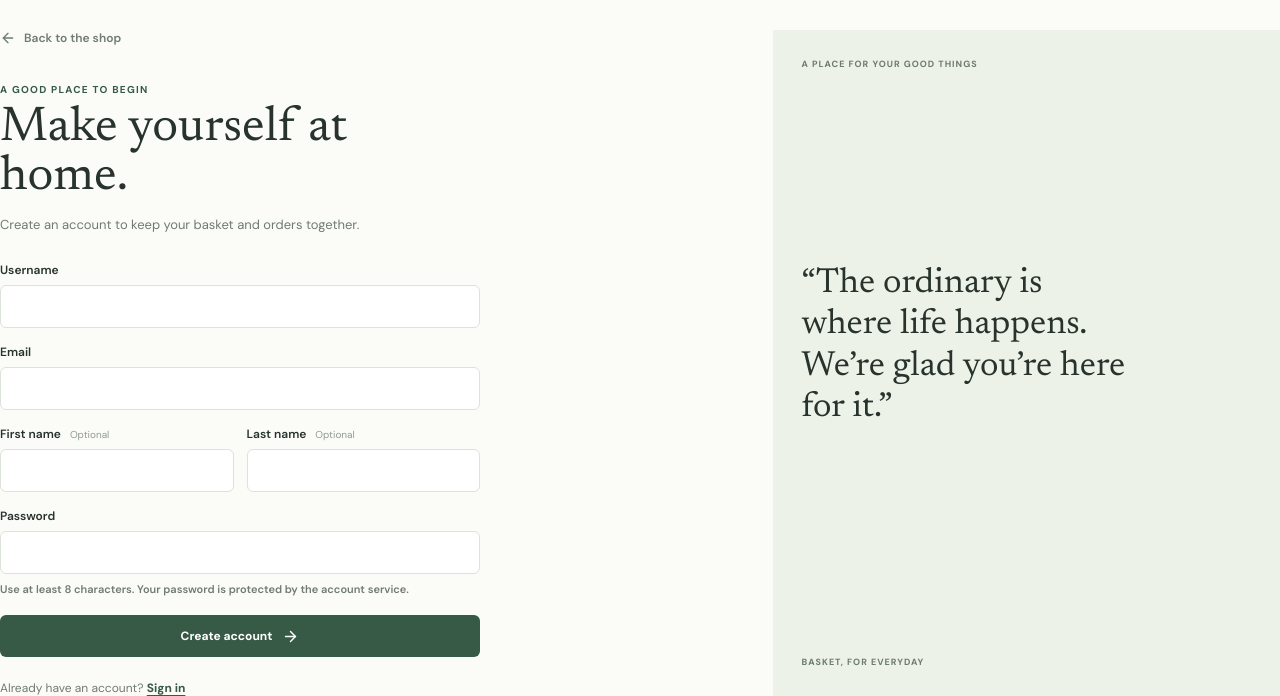
Scenario: AuthPage › shows field-level registration errors from the backend
Type "casey" into the field labelled "Username" at (240, 307), box [0,285,480,328]
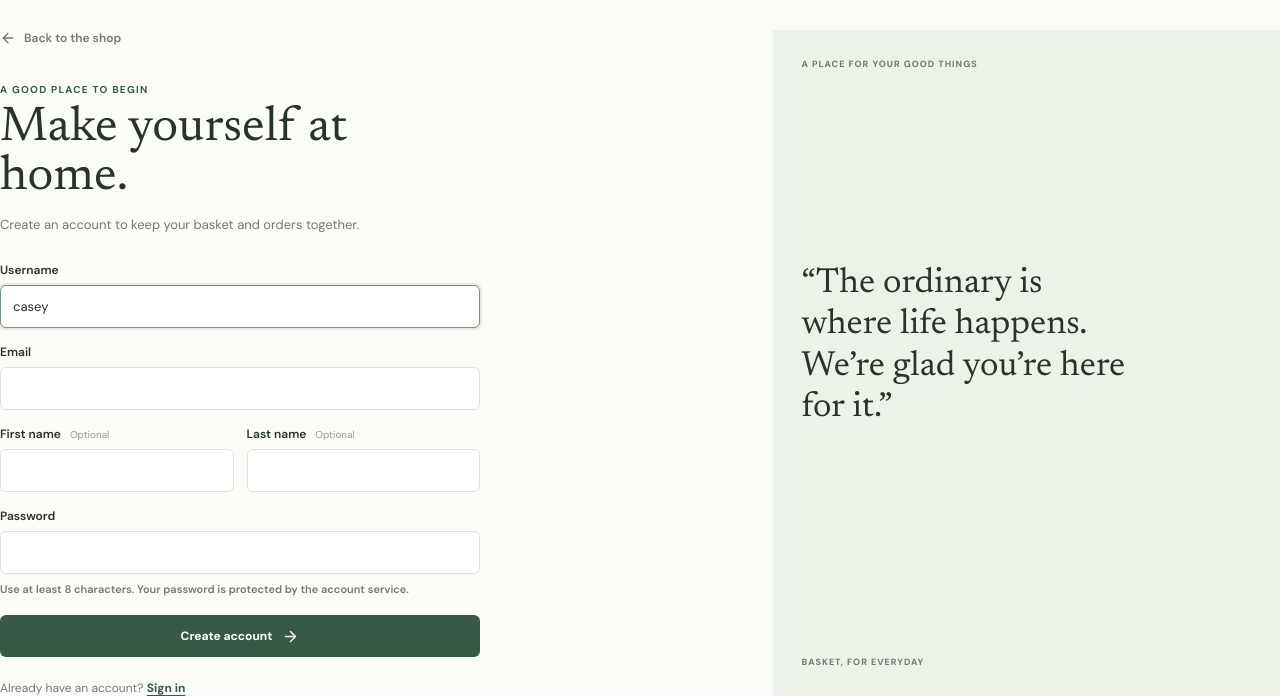
Type "casey@example.com" into the field labelled "Email" at (240, 389), box [0,367,480,410]
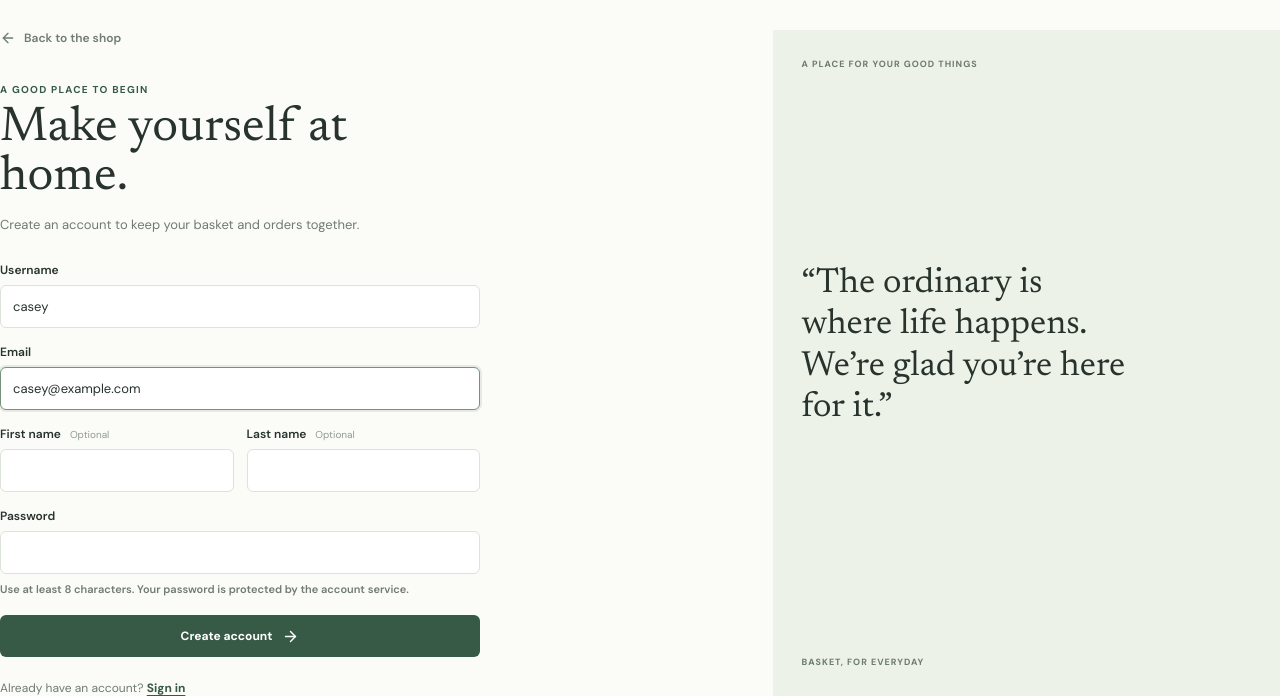
Type "a-secure-password" into the password field labelled "Password" at (240, 553), box [0,531,480,574]
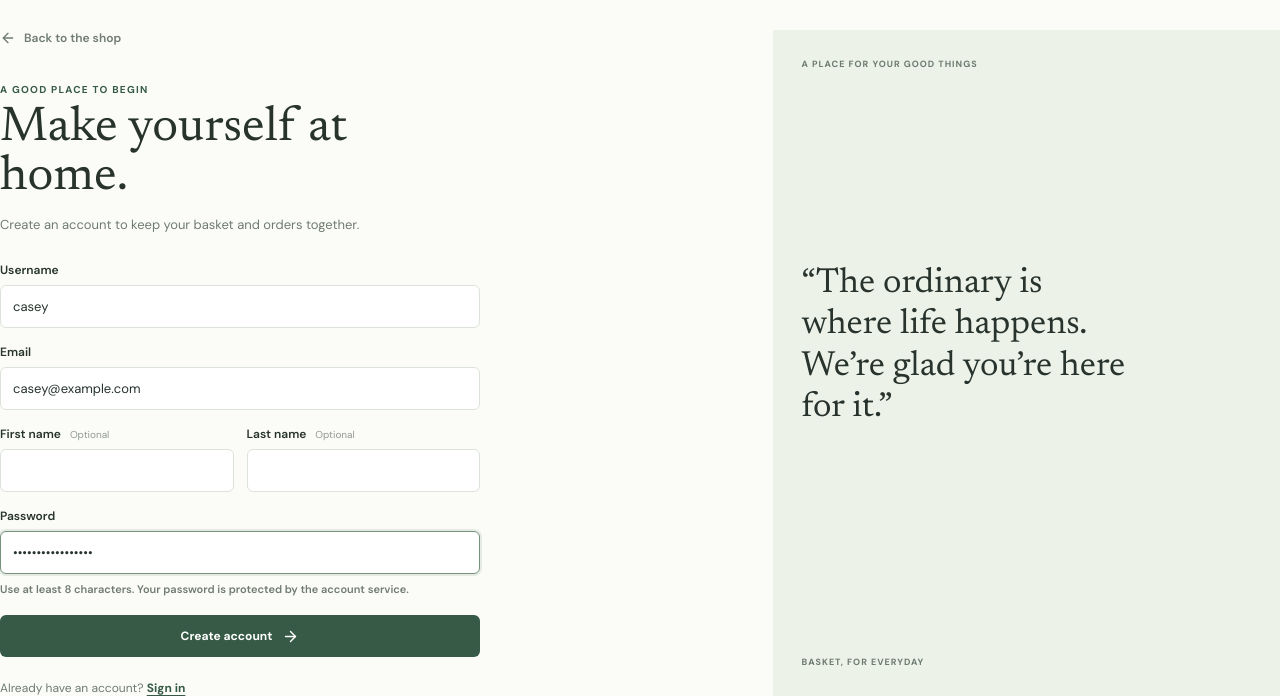
Click the button "Create account" at (240, 636), box [0,615,480,657]
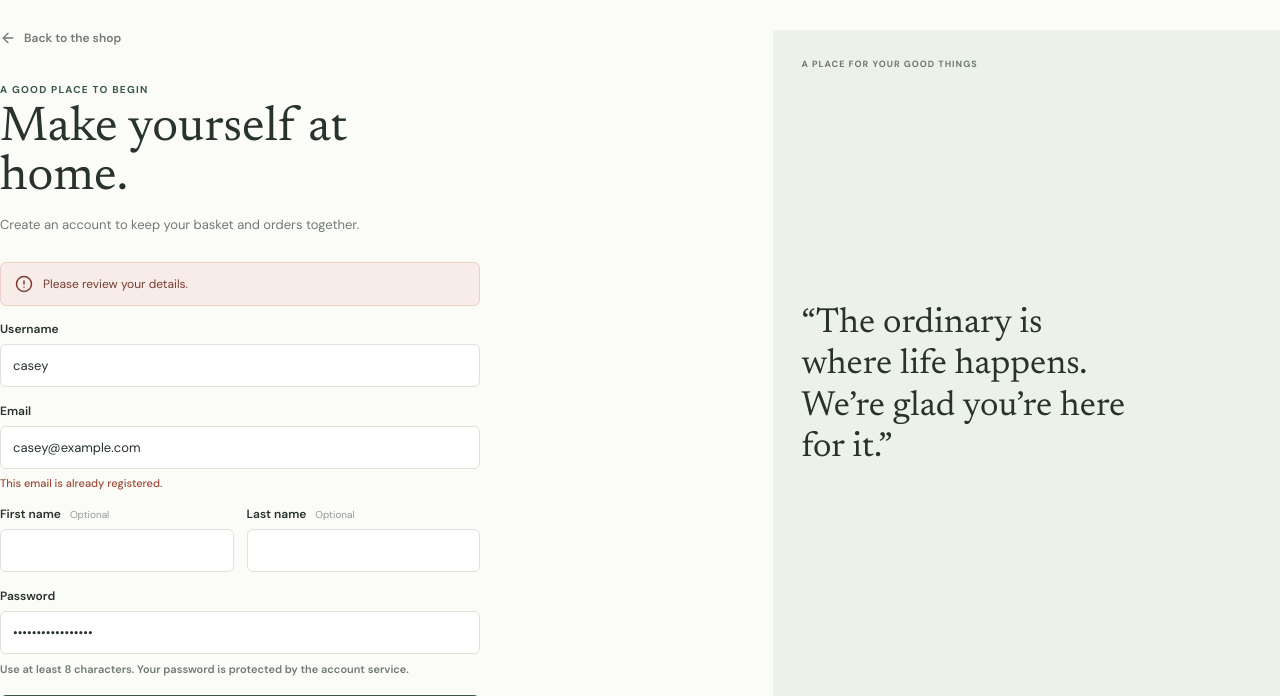
Now the text "This email is already registered." is shown, box [0,476,162,490]
Now the message reads "Please review your details.", box [43,276,188,292]
